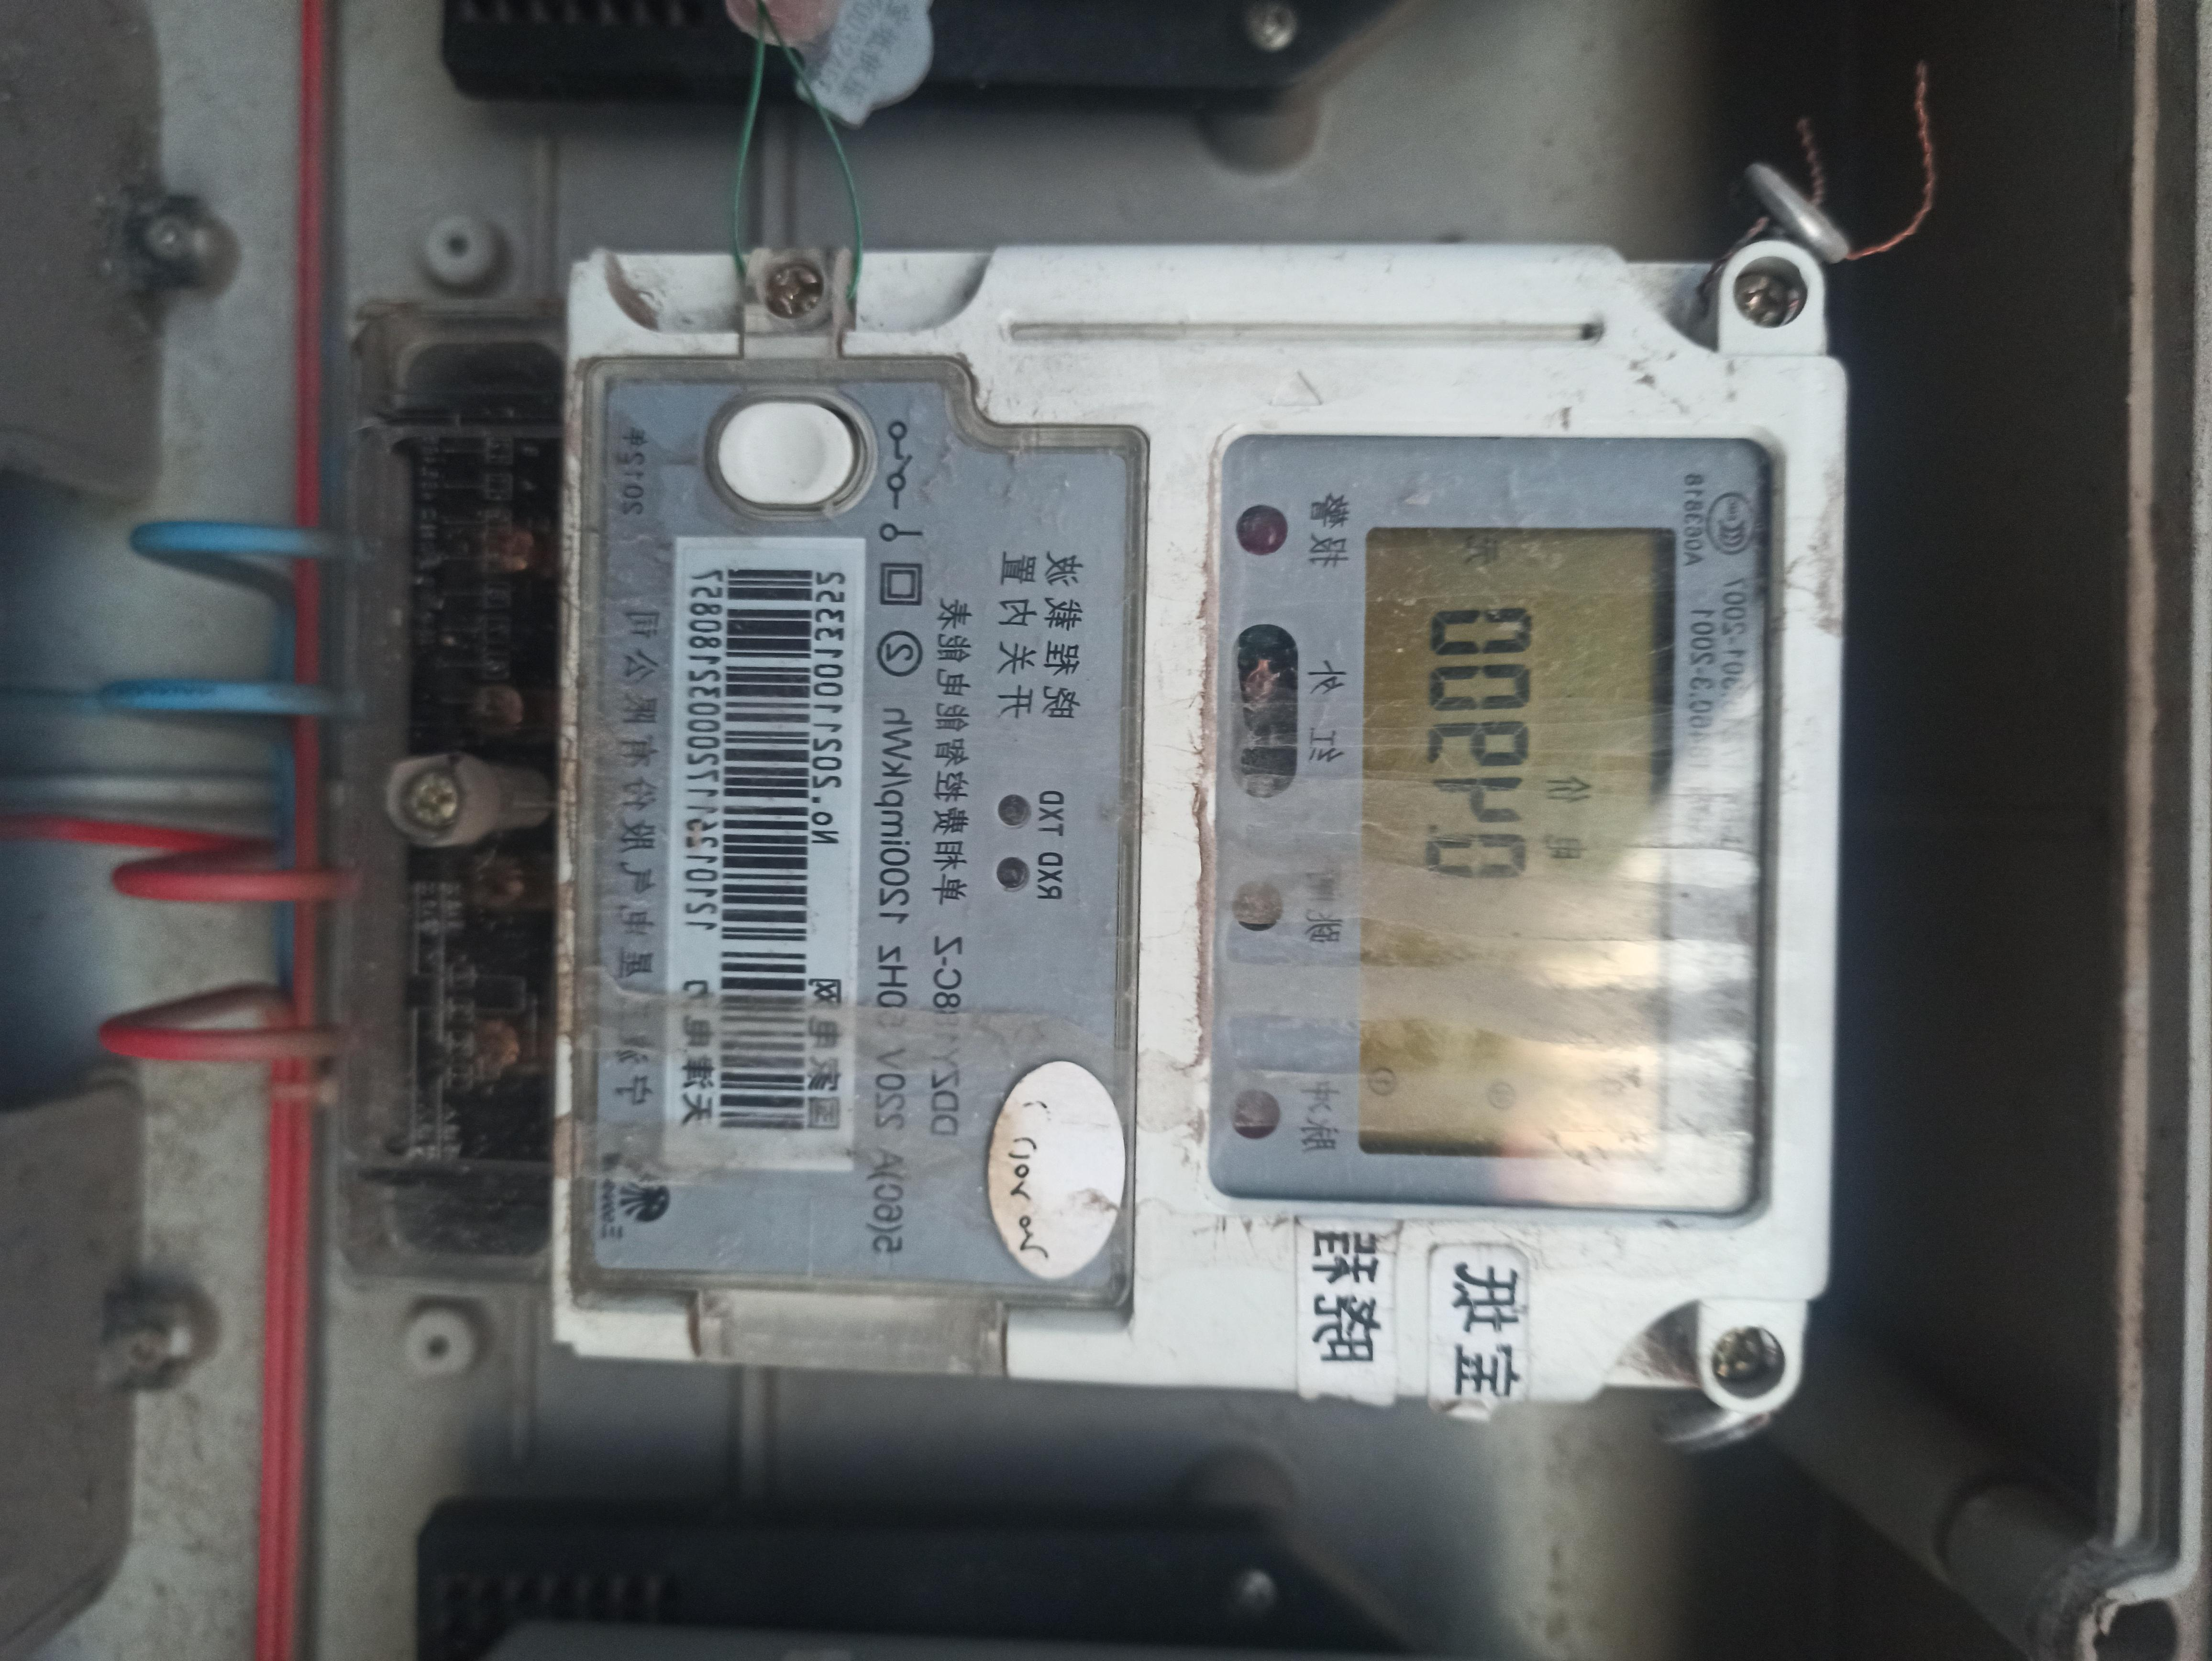digital: (546, 237, 1849, 1412)
